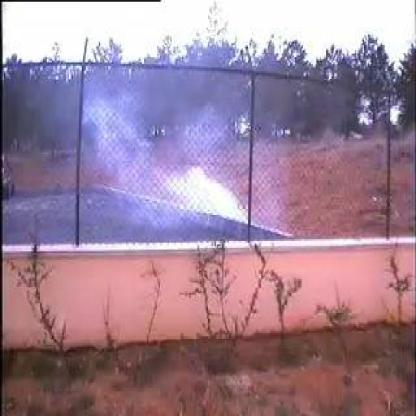-: (85, 80, 250, 234)
